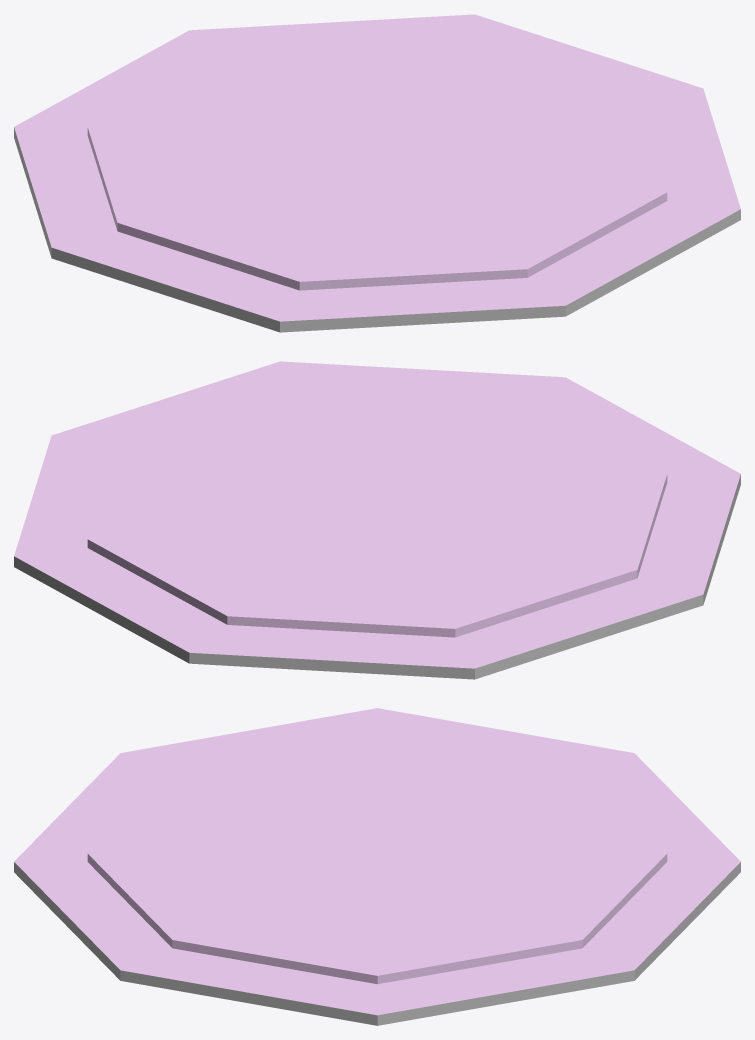
The model's file is p_platform.obj.
3 renders of one model, top to bottom at view 1: azimuth 30°, elevation 25°; view 2: azimuth 150°, elevation 25°; view 3: azimuth 270°, elevation 25°, orthographic. The views are drawn at different scales.
Parts seen in each view (by area): view 1: Circle.018_m_pembe, Circle.018_; view 2: Circle.018_m_pembe, Circle.018_; view 3: Circle.018_m_pembe, Circle.018_.
Boxes of the visible parts, left/top/right/bottom form: Circle.018_m_pembe: left=14, top=14, right=740, bottom=321; Circle.018_: left=14, top=127, right=740, bottom=332; Circle.018_m_pembe: left=14, top=361, right=740, bottom=668; Circle.018_: left=14, top=474, right=740, bottom=679; Circle.018_m_pembe: left=14, top=708, right=740, bottom=1015; Circle.018_: left=14, top=862, right=740, bottom=1025.
Size of the model in its own units: 37.33 by 1.07 by 37.33.
